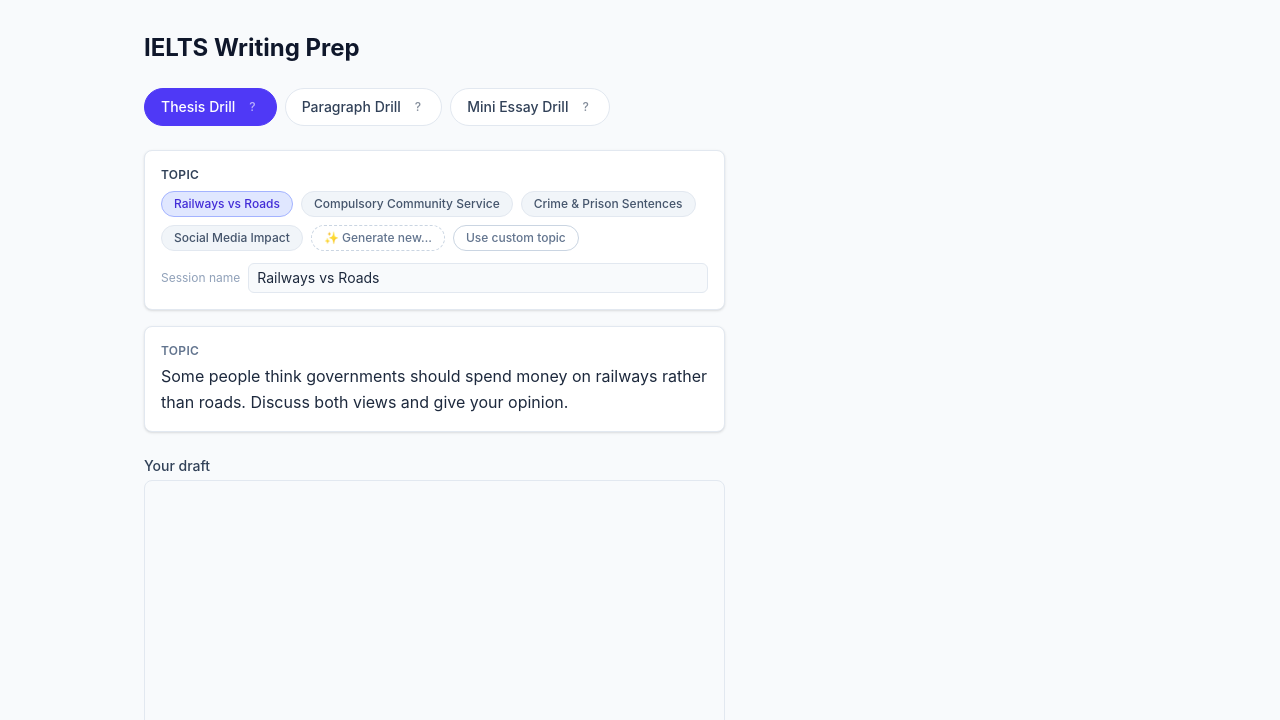
it: runs thesis mode sentence feedback flow
Step 1. Click the button "Thesis Drill" → (198, 107), box [161,97,235,117]
(page scrolled)
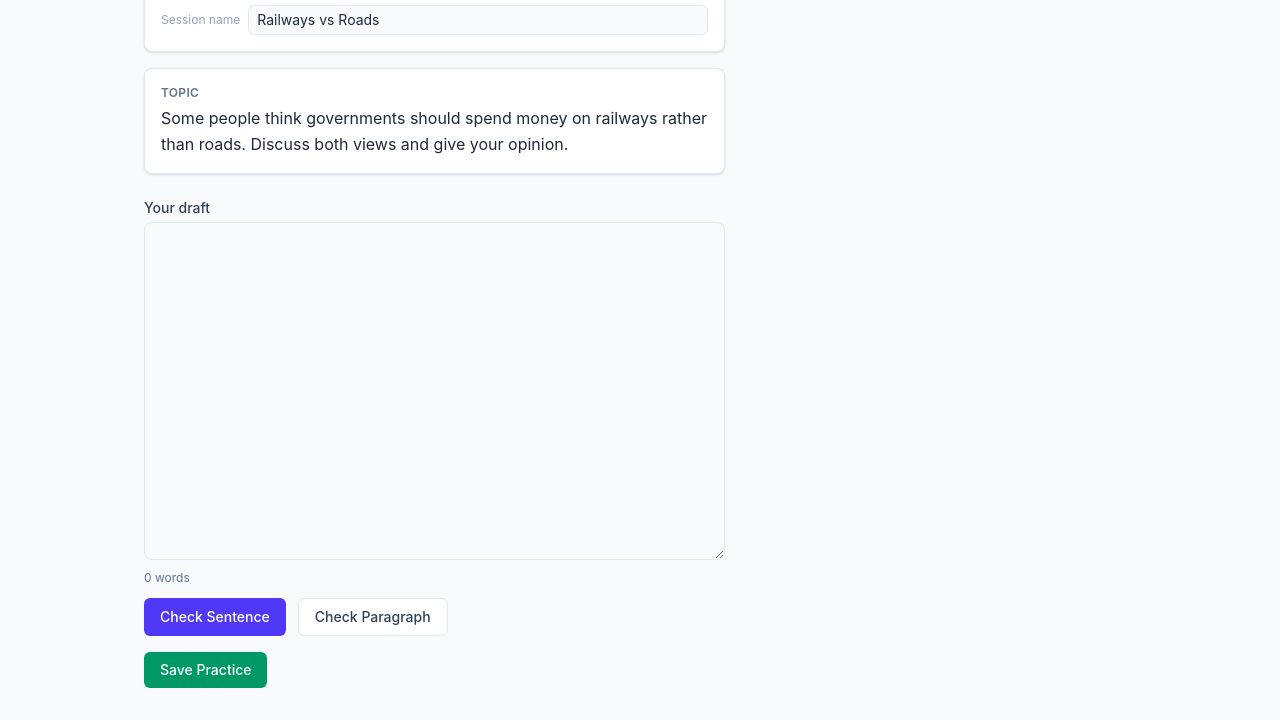
Step 2. Type "Governments should invest in rail." into the text box named "writing draft" → (434, 391), box [144,222,725,560]
(page scrolled)
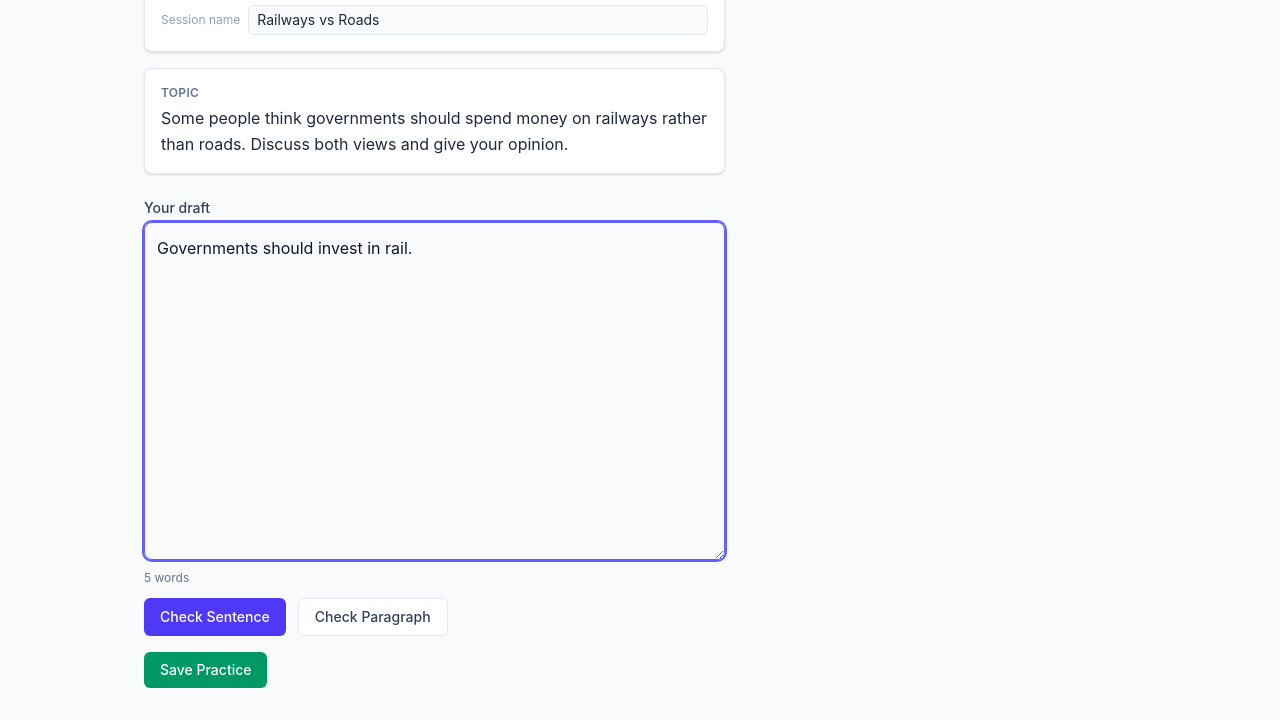
Step 3. Click the button "Check Sentence" → (215, 617), box [144,598,286,636]
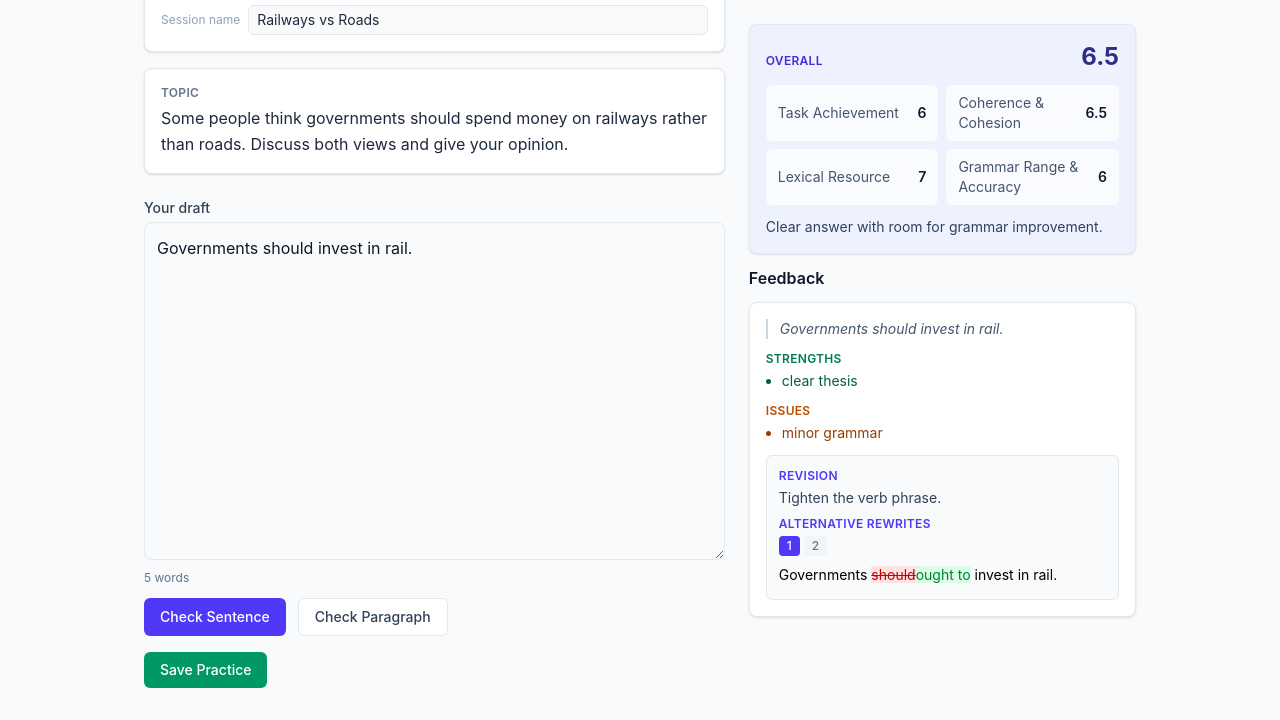
Expected: the list item "clear thesis" is shown, [782,372,858,389]
